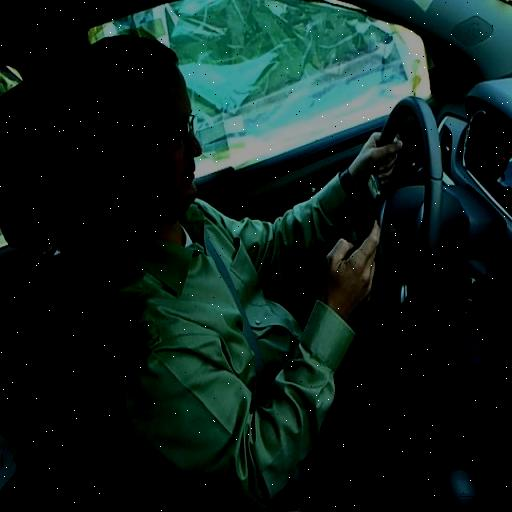texting_phone: (78, 58, 402, 483)
